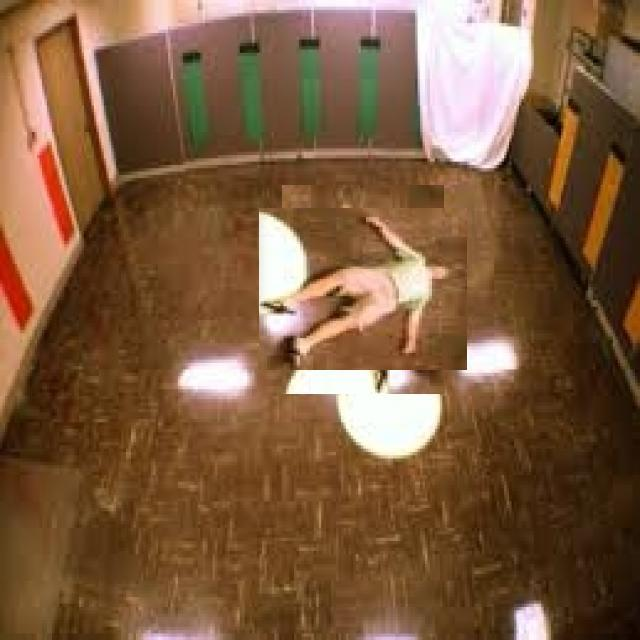Fall: (251, 219, 471, 357)
